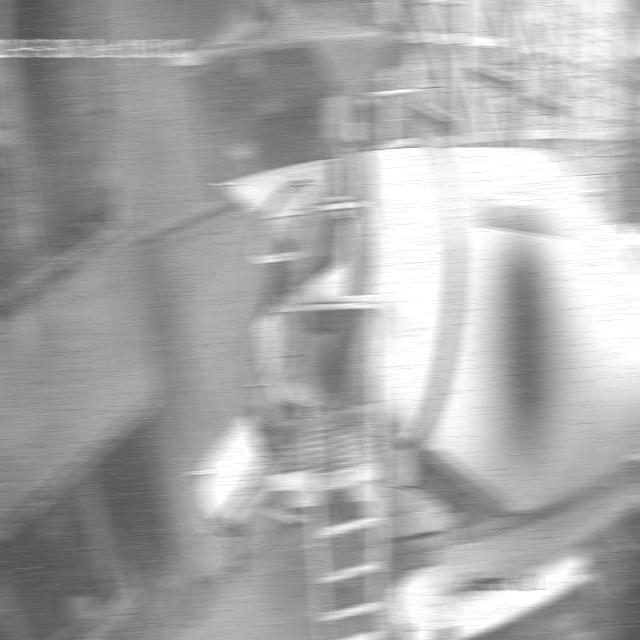cement_mixer_truck: (215, 141, 640, 640)
